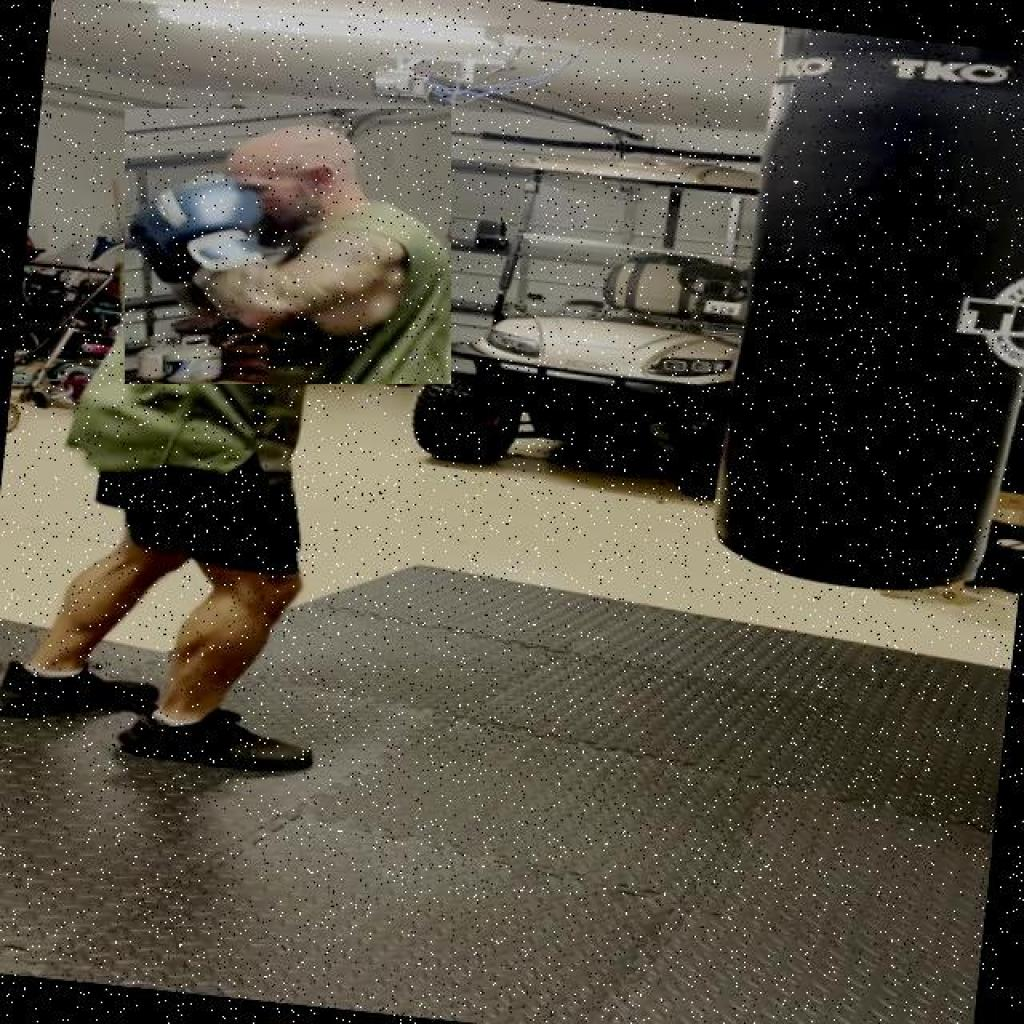bag: (707, 24, 1024, 613)
no punch: (125, 109, 452, 383)
